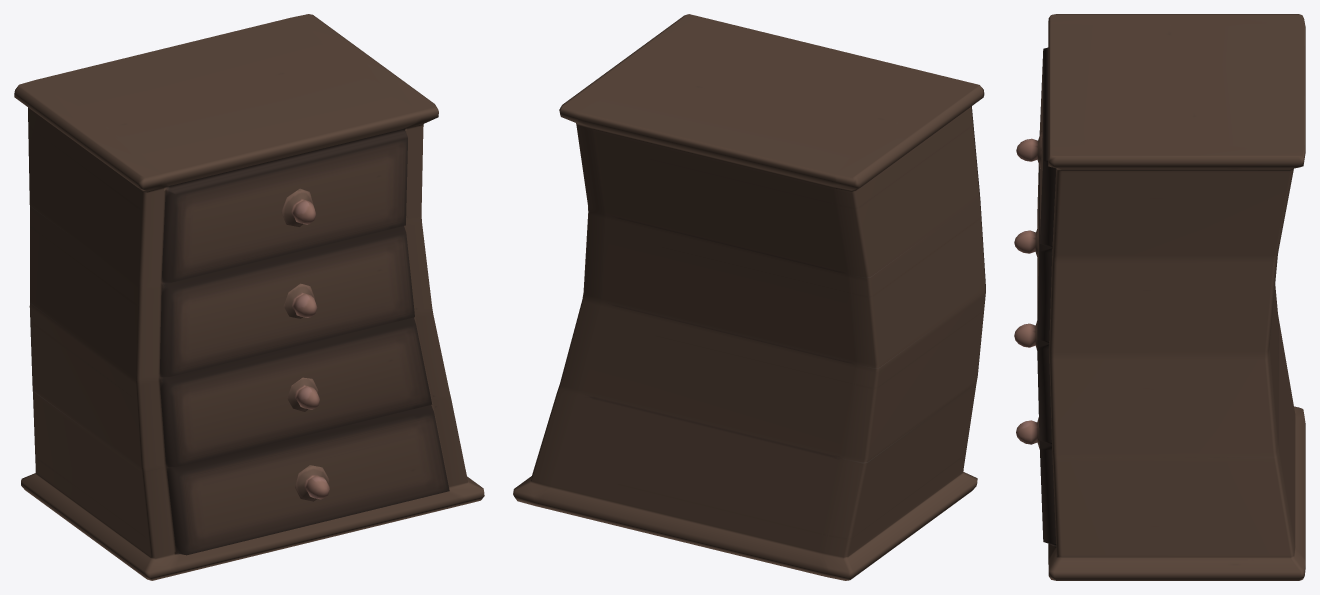
File: Tallboy_2.fbx
3 renders of one model, left to right at view 1: azimuth 30°, elevation 25°; view 2: azimuth 150°, elevation 25°; view 3: azimuth 270°, elevation 25°, orthographic.
Visible parts, largest first — view 1: WonkyTallboy; view 2: WonkyTallboy; view 3: WonkyTallboy.
Part boxes in pixels (bbox=[...]): WonkyTallboy: bbox=[14, 14, 484, 580]; WonkyTallboy: bbox=[513, 14, 985, 580]; WonkyTallboy: bbox=[1014, 14, 1305, 580].
Size of the model in its own units: 5.02 by 5.58 by 3.67.
